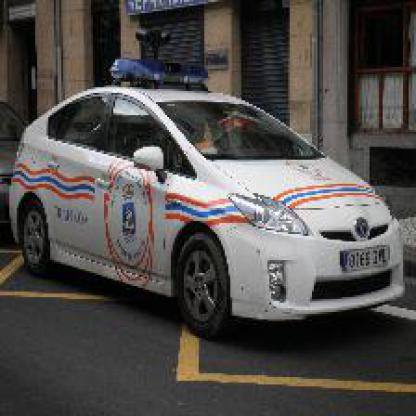emergency: (15, 56, 412, 356)
